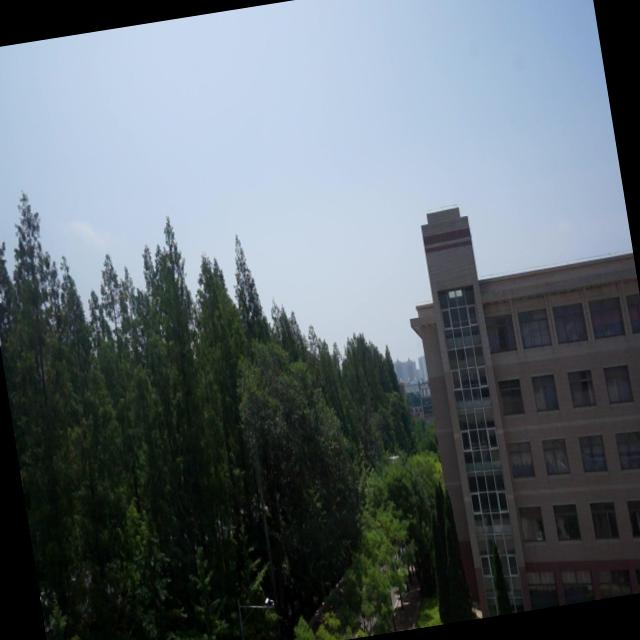drone: (386, 450, 402, 466)
